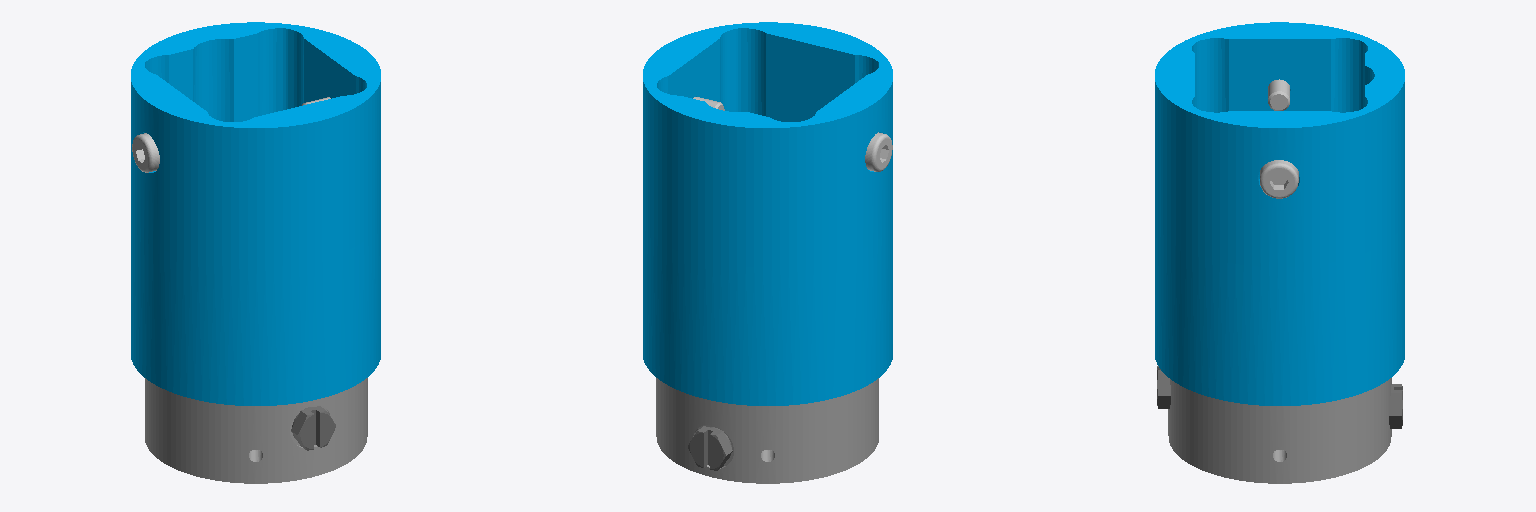
File: Assembly_SMC_EE_Part_Bottom.obj
3 views of the same model, side by side, from view 1: azimuth 30°, elevation 25°; view 2: azimuth 150°, elevation 25°; view 3: azimuth 270°, elevation 25° (orthographic).
Parts seen in each view (by area): view 1: Solid2, Solid1:1, Solid1:2, Solid1; view 2: Solid2, Solid1:1, Solid1:3, Solid1; view 3: Solid2, Solid1:1, Solid1:9, Solid1, Solid1:3.
Part boxes in pixels (bbox=[...]): Solid2: bbox=[131, 22, 380, 405]; Solid1:1: bbox=[145, 378, 367, 483]; Solid1:2: bbox=[291, 406, 335, 450]; Solid1: bbox=[132, 133, 159, 172]; Solid2: bbox=[643, 22, 892, 405]; Solid1:1: bbox=[656, 378, 878, 483]; Solid1:3: bbox=[688, 426, 732, 470]; Solid1: bbox=[865, 132, 892, 171]; Solid2: bbox=[1155, 22, 1404, 405]; Solid1:1: bbox=[1168, 378, 1391, 483]; Solid1:9: bbox=[1260, 160, 1298, 198]; Solid1: bbox=[1268, 79, 1289, 110]; Solid1:3: bbox=[1389, 384, 1402, 428].
Size of the model in its own units: 48 by 71.5 by 45.